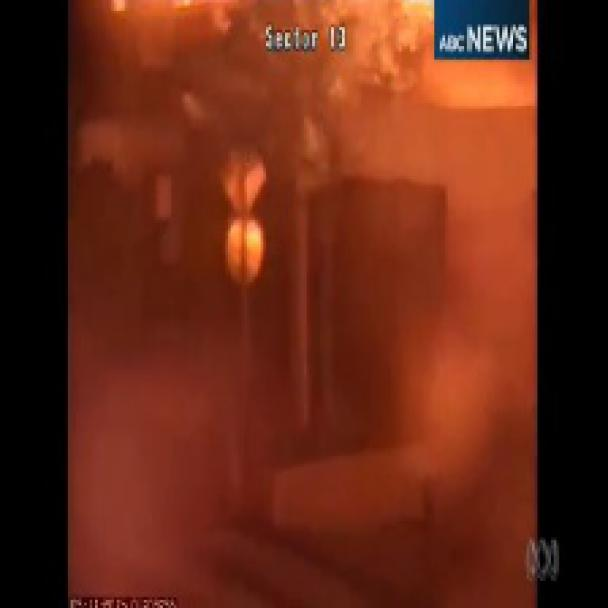smoke: (70, 4, 536, 607)
